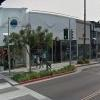Tree: (13, 26, 66, 75)
